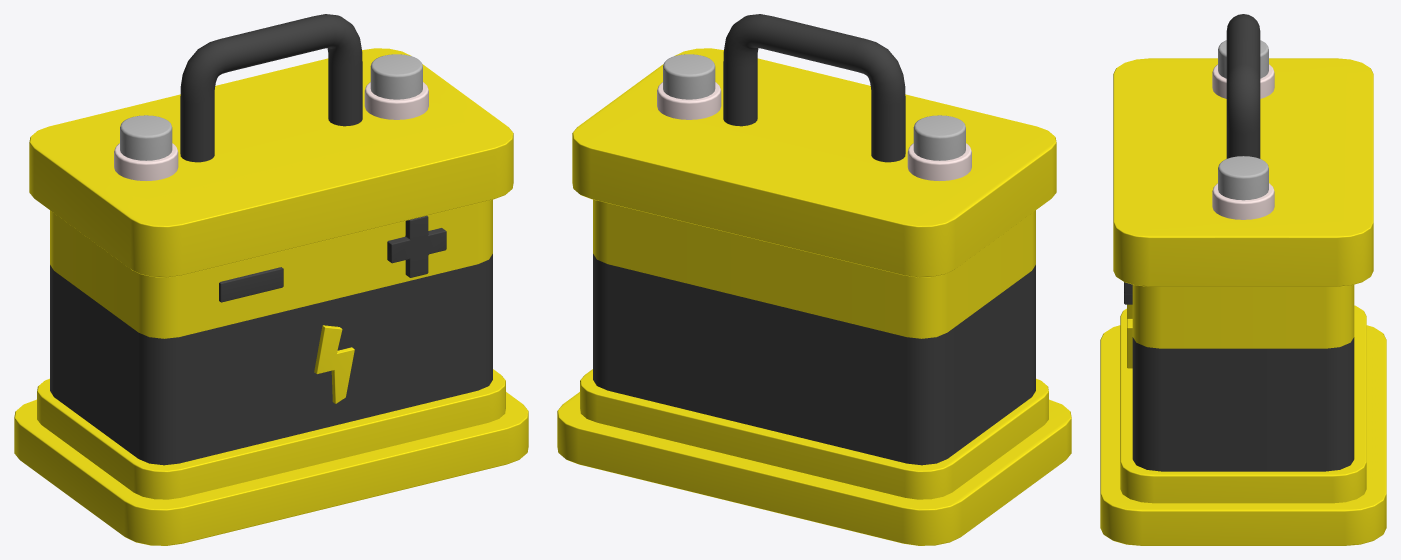
Rendered from Public_5_Isl_Car_Battery_1.glb.
The picture shows the model from 3 angles, left to right: view 1: azimuth 30°, elevation 25°; view 2: azimuth 150°, elevation 25°; view 3: azimuth 270°, elevation 25°; orthographic projection. The views are drawn at different scales.
Parts seen in each view (by area): view 1: Public_5_Isl_Car_Battery_1; view 2: Public_5_Isl_Car_Battery_1; view 3: Public_5_Isl_Car_Battery_1.
Boxes of the visible parts, x1,y1,x2,y2 form: Public_5_Isl_Car_Battery_1: [14, 14, 528, 545]; Public_5_Isl_Car_Battery_1: [557, 14, 1071, 545]; Public_5_Isl_Car_Battery_1: [1100, 14, 1386, 545].
Bounding box in the file's own units: 3.54 × 3.58 × 2.27.
1 material, 1 textured.
